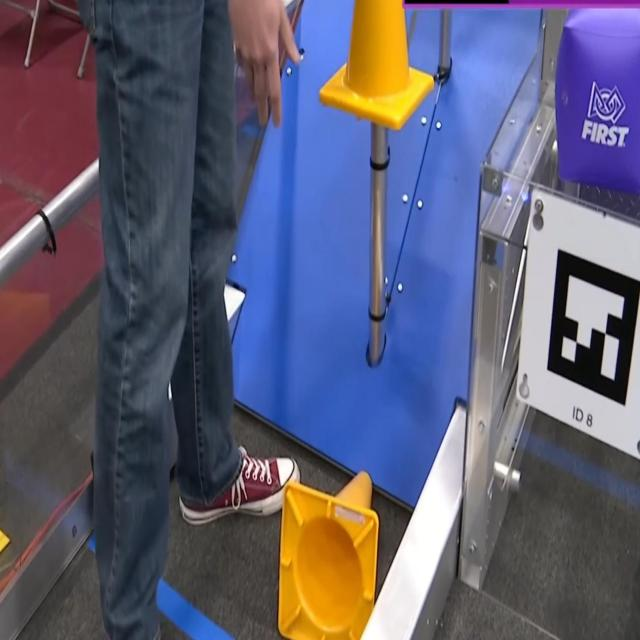frc_cone: (277, 467, 380, 640), (316, 0, 437, 136)
frc_cube: (551, 0, 640, 194)
